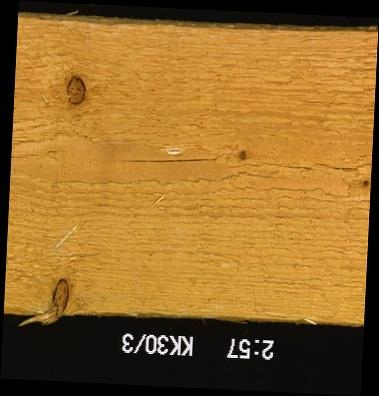dry_knot: (63, 73, 88, 106)
edge_knot: (48, 275, 71, 317)
small_knot: (235, 146, 249, 164), (358, 176, 370, 191)
split: (113, 148, 229, 173), (245, 154, 370, 177)
wave: (16, 16, 332, 44)
